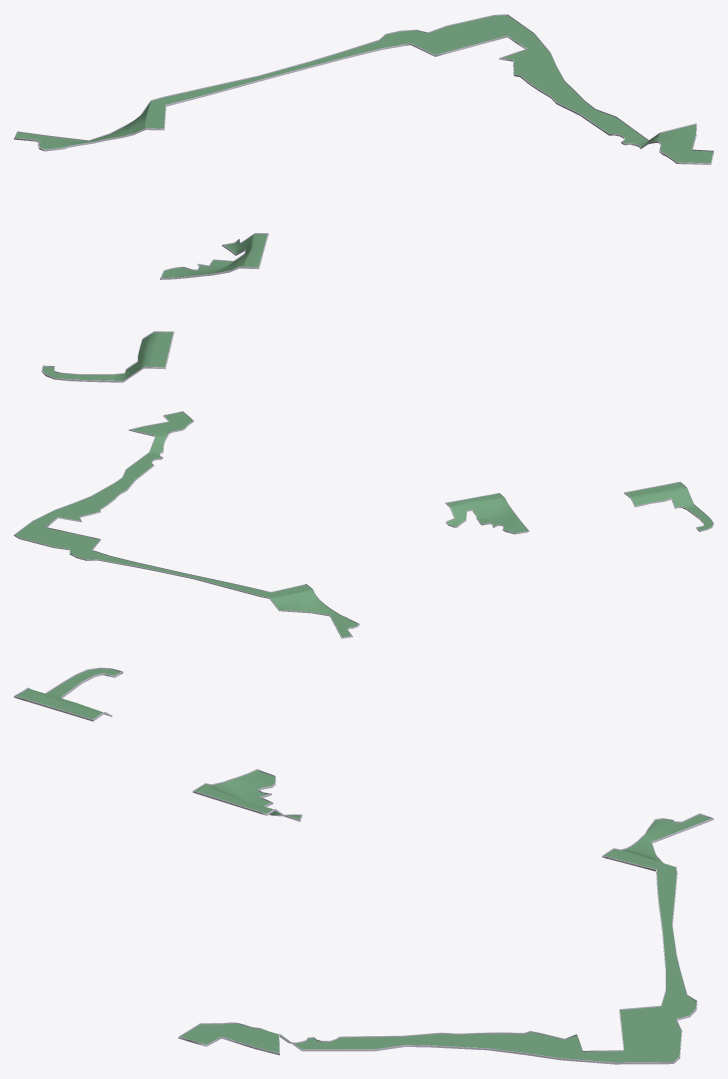
Rendered from kunkuk_add.fbx.
The picture shows the model from 3 angles, top to bottom: view 1: azimuth 30°, elevation 25°; view 2: azimuth 150°, elevation 25°; view 3: azimuth 270°, elevation 25°; orthographic projection. The views are drawn at different scales.
Parts seen in each view (by area): view 1: konkuk_greenery_08, konkuk_greenery_52, konkuk_greenery_36; view 2: konkuk_greenery_08, konkuk_greenery_36, konkuk_greenery_52; view 3: konkuk_greenery_08, konkuk_greenery_36, konkuk_greenery_52.
Part boxes in pixels (x1,y1,x2,y2): konkuk_greenery_08: (14,14,713,164); konkuk_greenery_52: (41,331,174,382); konkuk_greenery_36: (160,233,268,279); konkuk_greenery_08: (14,411,359,638); konkuk_greenery_36: (445,493,529,534); konkuk_greenery_52: (624,481,713,531); konkuk_greenery_08: (178,813,713,1064); konkuk_greenery_36: (192,768,302,821); konkuk_greenery_52: (14,667,123,721).
Bounding box in the file's own units: 7.53 × 0.308 × 5.53.
